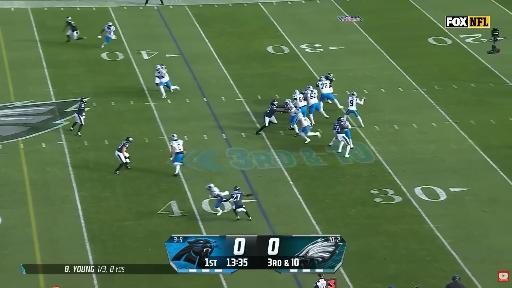Helmet: (206, 183, 214, 190), (292, 109, 301, 115), (270, 100, 278, 106), (350, 91, 357, 97), (285, 99, 291, 105), (171, 134, 177, 140), (80, 98, 87, 103), (126, 137, 132, 142), (234, 186, 240, 191), (106, 22, 113, 26), (306, 86, 313, 90), (156, 65, 161, 70), (337, 117, 343, 121), (320, 77, 325, 81), (294, 90, 299, 94), (327, 73, 332, 77), (66, 17, 71, 21)
Jersey: (305, 90, 318, 106), (293, 94, 307, 108), (348, 97, 363, 110), (231, 191, 243, 207), (318, 81, 332, 94), (209, 186, 223, 199), (170, 140, 183, 153), (156, 69, 169, 82), (264, 105, 277, 117), (334, 122, 346, 134), (299, 116, 310, 127), (117, 142, 129, 152), (76, 102, 85, 115), (105, 26, 115, 37), (66, 21, 77, 31), (285, 103, 294, 112), (325, 76, 334, 83)
Player: (304, 86, 329, 125), (256, 100, 283, 134), (329, 117, 350, 157), (317, 77, 343, 109), (295, 110, 320, 143), (156, 65, 179, 98), (344, 92, 365, 127), (206, 184, 229, 215), (231, 186, 251, 220), (70, 98, 87, 136), (115, 137, 132, 174), (170, 134, 184, 176), (285, 99, 298, 136), (63, 17, 83, 41), (339, 117, 354, 149), (99, 22, 115, 48), (293, 90, 307, 116), (155, 65, 165, 90), (155, 65, 161, 90), (324, 73, 334, 87), (325, 73, 334, 85)
